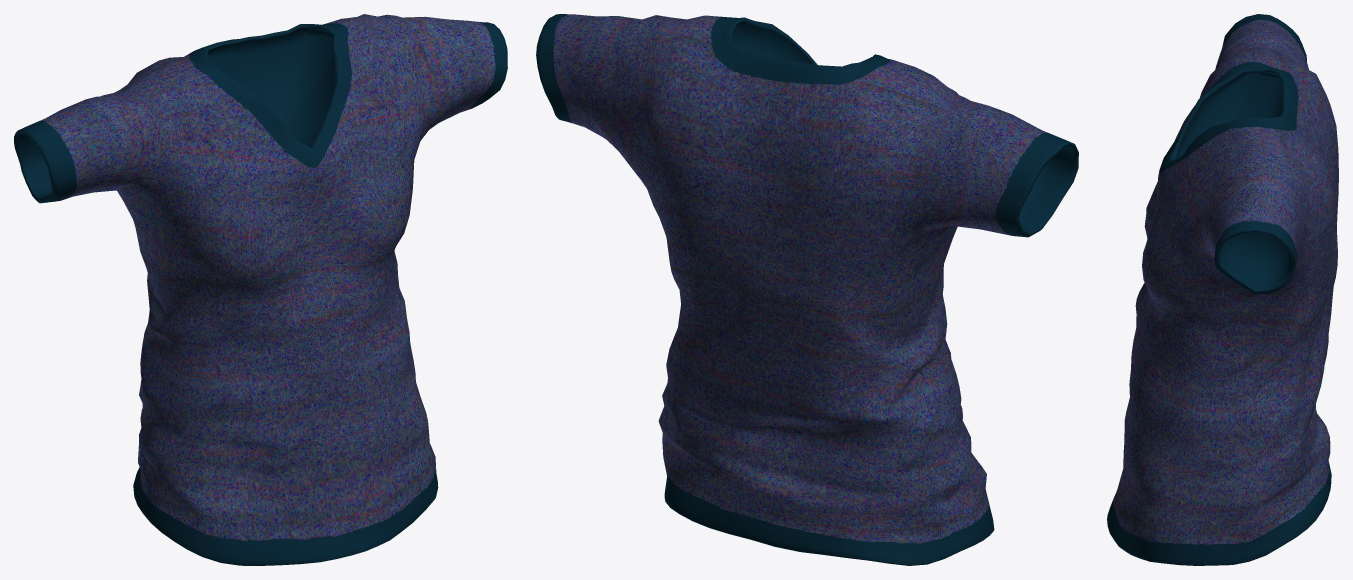
File: Cha-Custom-Top-2.glb
3 views of the same model, side by side, from view 1: azimuth 30°, elevation 25°; view 2: azimuth 150°, elevation 25°; view 3: azimuth 270°, elevation 25° (orthographic). The views are drawn at different scales.
Visible parts, largest first — view 1: Tops; view 2: Tops; view 3: Tops.
Boxes of the visible parts, x1,y1,x2,y2 form: Tops: (14,14,507,565); Tops: (536,14,1078,565); Tops: (1107,14,1338,565).
Bounding box in the file's own units: 1.42 × 1.34 × 0.6503.
1 material, 1 textured.
